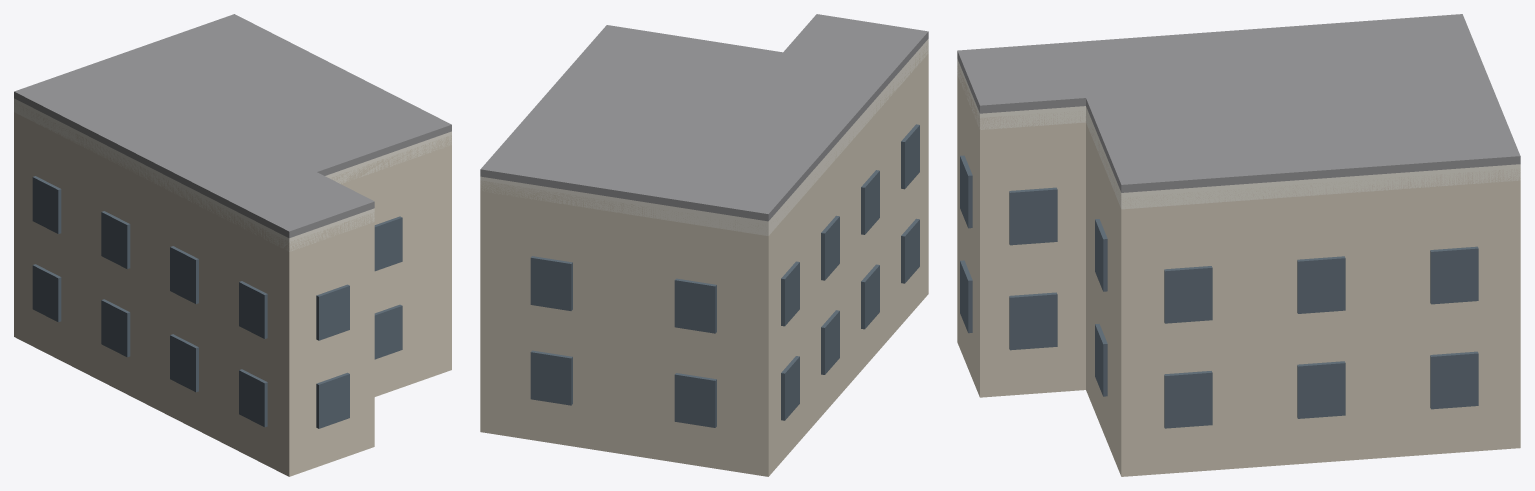
The model's file is s42_gis_248126_820711.glb.
3 renders of one model, left to right at view 1: azimuth 30°, elevation 25°; view 2: azimuth 150°, elevation 25°; view 3: azimuth 270°, elevation 25°, orthographic. The views are drawn at different scales.
Visible parts, largest first — view 1: mass, roofcap, cornice, win_4_0_0, win_4_1_0, win_3_0_0, win_3_1_1, win_3_0_1, win_3_1_0, win_3_1_2, win_3_0_3, win_3_1_3 (+3 smaller); view 2: mass, roofcap, cornice, win_2_0_0, win_2_1_1, win_2_0_1, win_2_1_0, win_3_0_3, win_3_1_1, win_3_1_0, win_3_1_2, win_3_1_3 (+3 smaller); view 3: mass, roofcap, cornice, win_1_0_2, win_1_1_1, win_1_1_2, win_5_1_0, win_1_0_1, win_5_0_0, win_1_0_0, win_1_1_0, win_4_1_0 (+3 smaller).
Part boxes in pixels (left/top/right/bottom): mass: left=14, top=103, right=451, bottom=476; roofcap: left=14, top=14, right=451, bottom=238; cornice: left=14, top=98, right=451, bottom=251; win_4_0_0: left=316, top=372, right=349, bottom=428; win_4_1_0: left=316, top=284, right=349, bottom=340; win_3_0_0: left=32, top=264, right=61, bottom=322; win_3_1_1: left=101, top=211, right=130, bottom=268; win_3_0_1: left=101, top=299, right=130, bottom=357; win_3_1_0: left=32, top=176, right=61, bottom=233; win_3_1_2: left=170, top=246, right=198, bottom=303; win_3_0_3: left=239, top=369, right=267, bottom=427; win_3_1_3: left=239, top=281, right=267, bottom=338; mass: left=480, top=43, right=928, bottom=476; roofcap: left=480, top=14, right=928, bottom=221; cornice: left=480, top=39, right=928, bottom=235; win_2_0_0: left=530, top=350, right=572, bottom=405; win_2_1_1: left=674, top=278, right=716, bottom=333; win_2_0_1: left=674, top=373, right=716, bottom=427; win_2_1_0: left=530, top=256, right=572, bottom=310; win_3_0_3: left=901, top=218, right=919, bottom=283; win_3_1_1: left=821, top=215, right=839, bottom=280; win_3_1_0: left=781, top=261, right=799, bottom=326; win_3_1_2: left=861, top=170, right=879, bottom=234; win_3_1_3: left=901, top=124, right=919, bottom=189; mass: left=957, top=66, right=1520, bottom=476; roofcap: left=957, top=14, right=1520, bottom=192; cornice: left=957, top=59, right=1520, bottom=209; win_1_0_2: left=1430, top=351, right=1478, bottom=409; win_1_1_1: left=1297, top=256, right=1345, bottom=313; win_1_1_2: left=1430, top=246, right=1478, bottom=304; win_5_1_0: left=1009, top=187, right=1057, bottom=245; win_1_0_1: left=1297, top=361, right=1345, bottom=418; win_5_0_0: left=1009, top=292, right=1057, bottom=350; win_1_0_0: left=1164, top=371, right=1212, bottom=428; win_1_1_0: left=1164, top=266, right=1212, bottom=323; win_4_1_0: left=960, top=155, right=972, bottom=228.
Size of the model in its own units: 10.48 by 8.35 by 14.59.
